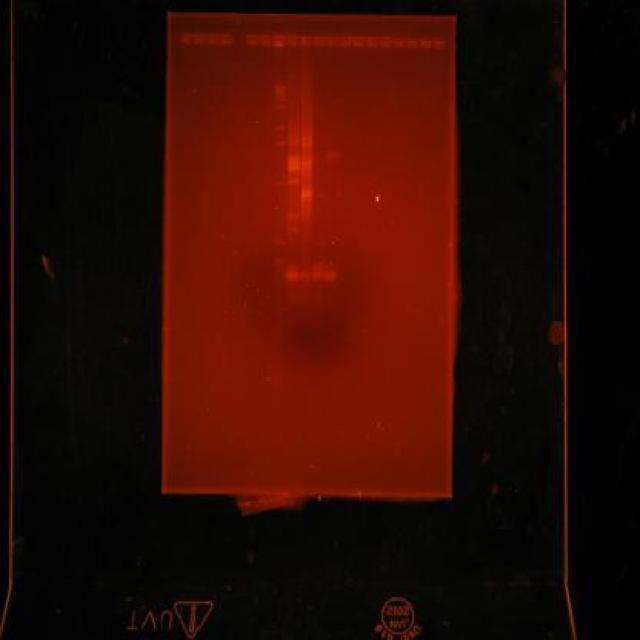B: (324, 268, 338, 282), (286, 268, 299, 282), (286, 212, 300, 222), (300, 190, 314, 199), (310, 272, 324, 280), (286, 226, 300, 234), (286, 138, 300, 146), (300, 134, 314, 142), (300, 158, 314, 166), (326, 150, 339, 158), (298, 272, 311, 280), (326, 132, 339, 140), (288, 178, 300, 186), (286, 164, 300, 170), (300, 141, 314, 147), (300, 166, 314, 172), (312, 192, 326, 198), (326, 159, 339, 164), (288, 160, 300, 165)
L: (176, 28, 449, 52)
M: (270, 77, 288, 291)
P: (272, 84, 286, 95), (272, 267, 286, 276), (272, 277, 286, 285), (274, 102, 286, 111), (274, 238, 286, 247), (274, 178, 286, 186), (274, 139, 286, 147), (274, 124, 286, 132), (274, 96, 286, 102)
Pc: (206, 32, 220, 46), (219, 32, 233, 46), (433, 36, 447, 50), (419, 36, 433, 50), (406, 36, 420, 50), (286, 34, 300, 48), (272, 34, 286, 48), (178, 32, 192, 45), (192, 32, 206, 45), (366, 35, 380, 48), (246, 34, 260, 46), (258, 34, 272, 46), (380, 36, 392, 49), (352, 36, 366, 47), (338, 36, 352, 47), (392, 38, 406, 48), (312, 36, 326, 46), (298, 36, 312, 46), (326, 36, 339, 46)
